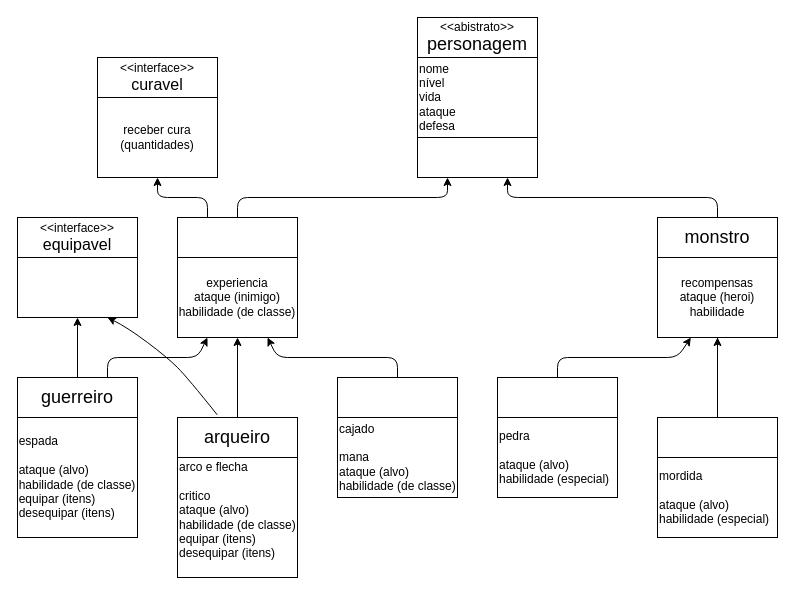
The diagram is 795 pixels wide and 595 high, and some of its shapes have lost their labels. The shapes that lost their labels are listed below. From the top down, each one's centre as x and y in pixels, then its label:
At (x=477, y=157): "atacar (alvo) habilidade".
At (x=237, y=237): "Heroi".
At (x=77, y=287): "equipar itens desequipar itens".
At (x=397, y=397): "mago".
At (x=557, y=397): "golem".
At (x=717, y=437): "morto vivo".
